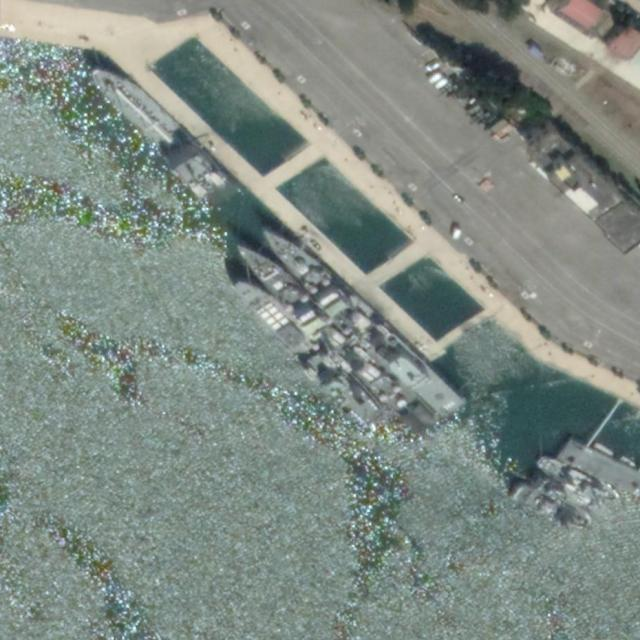Frigate: (257, 217, 471, 423), (229, 235, 441, 438)
Landing: (85, 56, 238, 212)
Other Warship: (222, 270, 398, 440)
